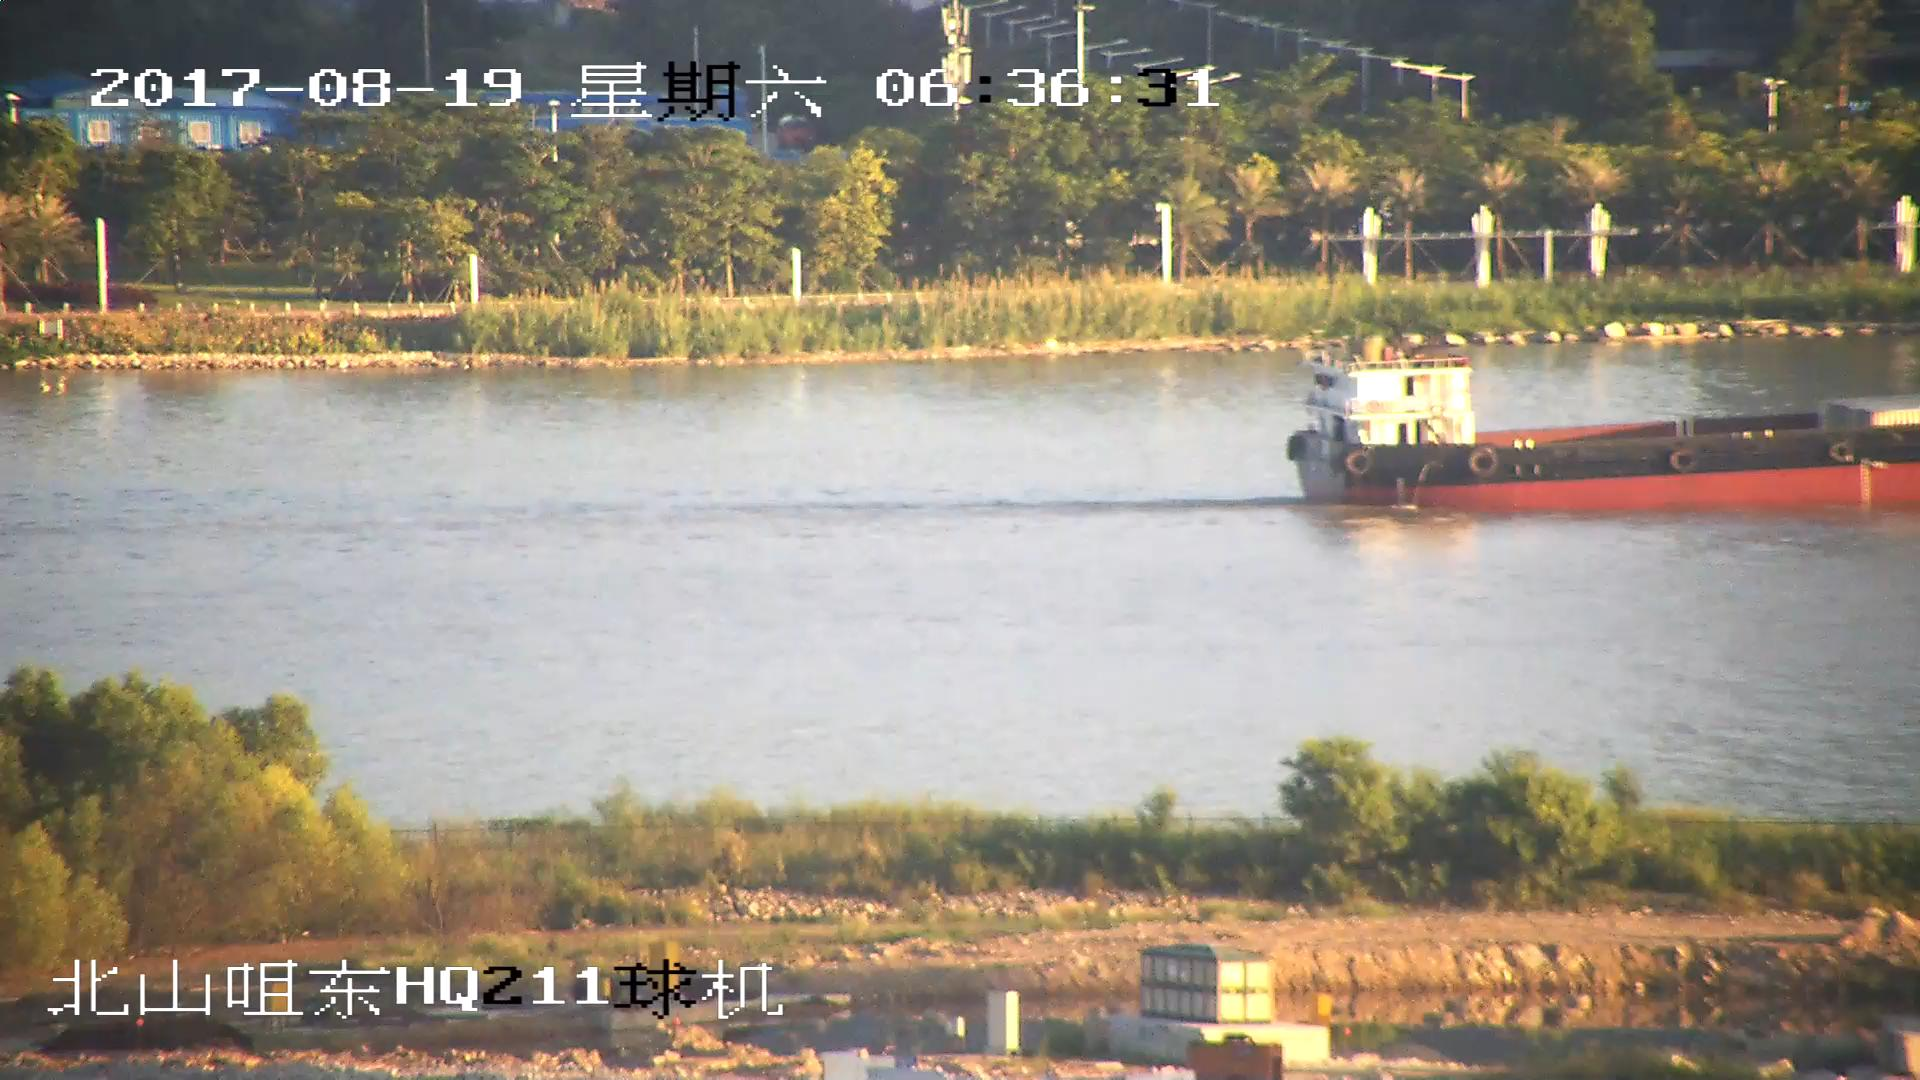general cargo ship: (1298, 358, 1920, 515)
